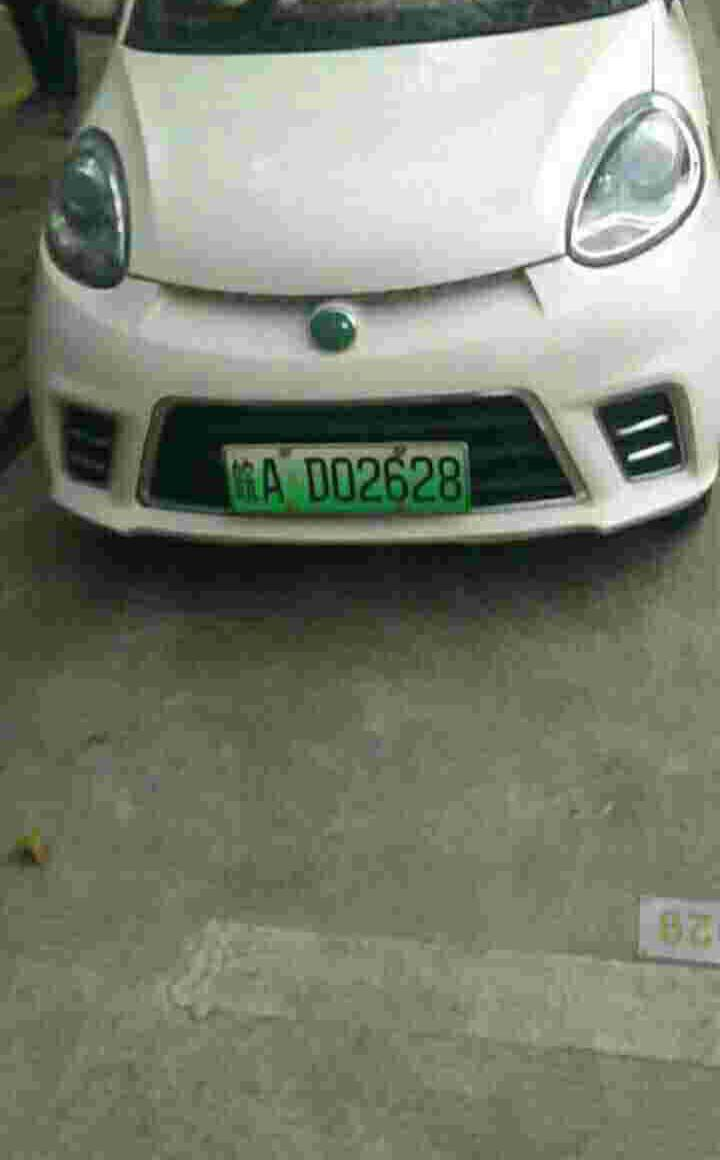car: (221, 447, 478, 515)
